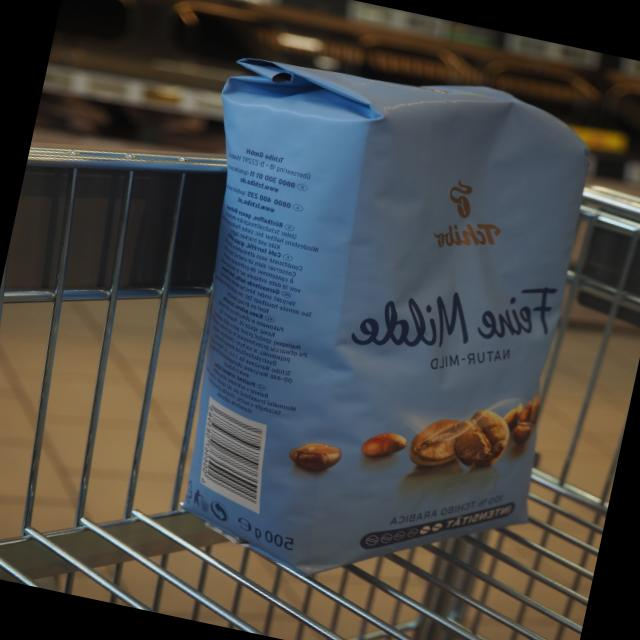FM Bohne: (113, 22, 622, 628)
